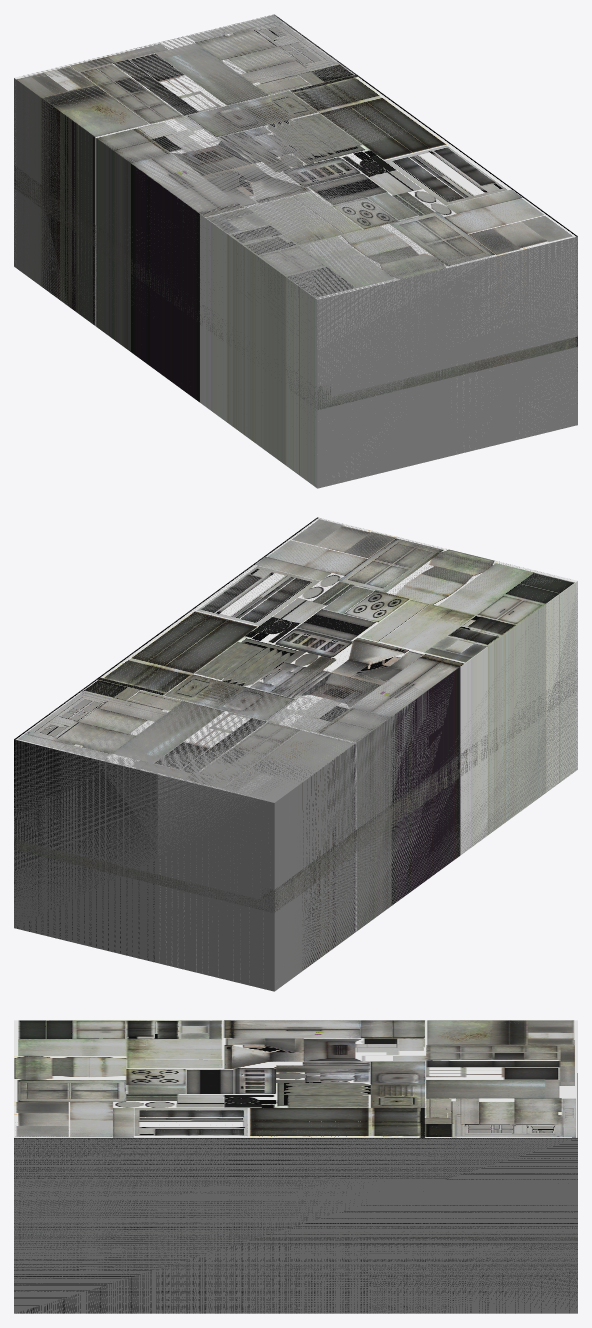
File: sink.FBX
3 views of the same model, one above another, from view 1: azimuth 30°, elevation 25°; view 2: azimuth 150°, elevation 25°; view 3: azimuth 270°, elevation 25° (orthographic). The views are drawn at different scales.
Visible parts, largest first — view 1: colbox-1, bounds, sink100; view 2: colbox-1, bounds, sink100; view 3: bounds, colbox-1, sink100.
Boxes of the visible parts, box(x1,y1,x2,y2) form: colbox-1: box(14, 15, 577, 487); bounds: box(14, 14, 577, 488); sink100: box(14, 165, 577, 409); colbox-1: box(14, 517, 577, 983); bounds: box(14, 518, 577, 991); sink100: box(14, 671, 577, 912); bounds: box(14, 1111, 577, 1313); colbox-1: box(14, 1020, 577, 1313); sink100: box(14, 1232, 576, 1240).
Bounding box in the file's own units: 53.74 × 37.19 × 108.
